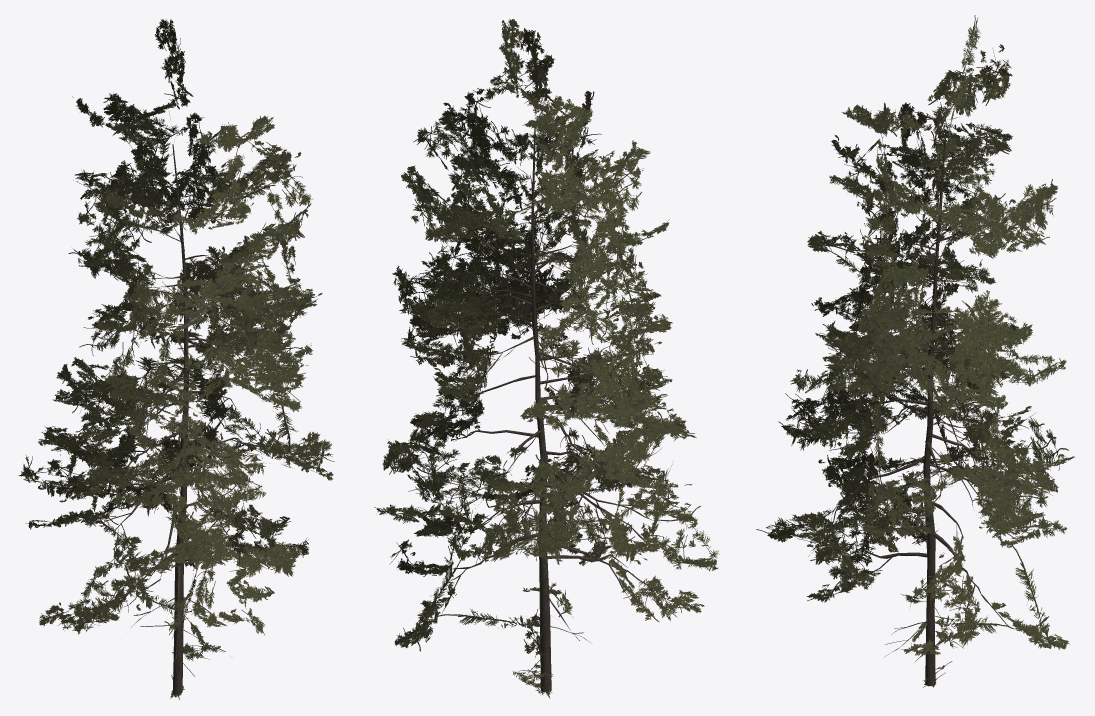
3 renders of one model, left to right at view 1: azimuth 30°, elevation 25°; view 2: azimuth 150°, elevation 25°; view 3: azimuth 270°, elevation 25°, orthographic. The views are drawn at different scales.
Parts seen in each view (by area): view 1: pine_sapling_medium__a_lod1; view 2: pine_sapling_medium__a_lod1; view 3: pine_sapling_medium__a_lod1.
Boxes of the visible parts, <box> form: pine_sapling_medium__a_lod1: <box>18,19,334,699</box>; pine_sapling_medium__a_lod1: <box>374,19,719,698</box>; pine_sapling_medium__a_lod1: <box>756,15,1074,687</box>.
Bounding box in the file's own units: 5.29 × 11.6 × 5.
Materials: 2 (2 with a texture image).
